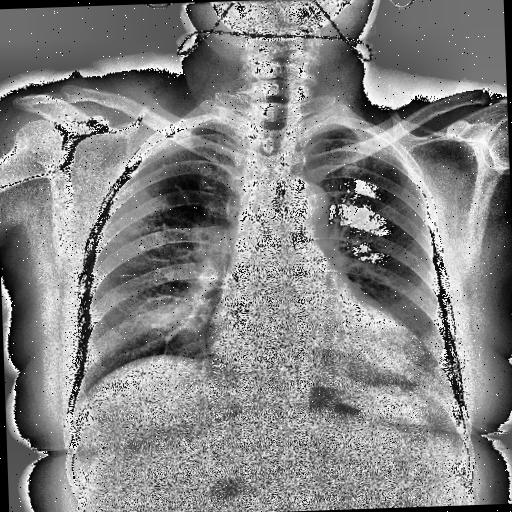0- Aortic enlargement: (257, 178, 327, 232), (271, 170, 332, 228)
3- Cardiomegaly: (199, 306, 437, 398), (204, 290, 426, 386), (206, 312, 424, 397)
